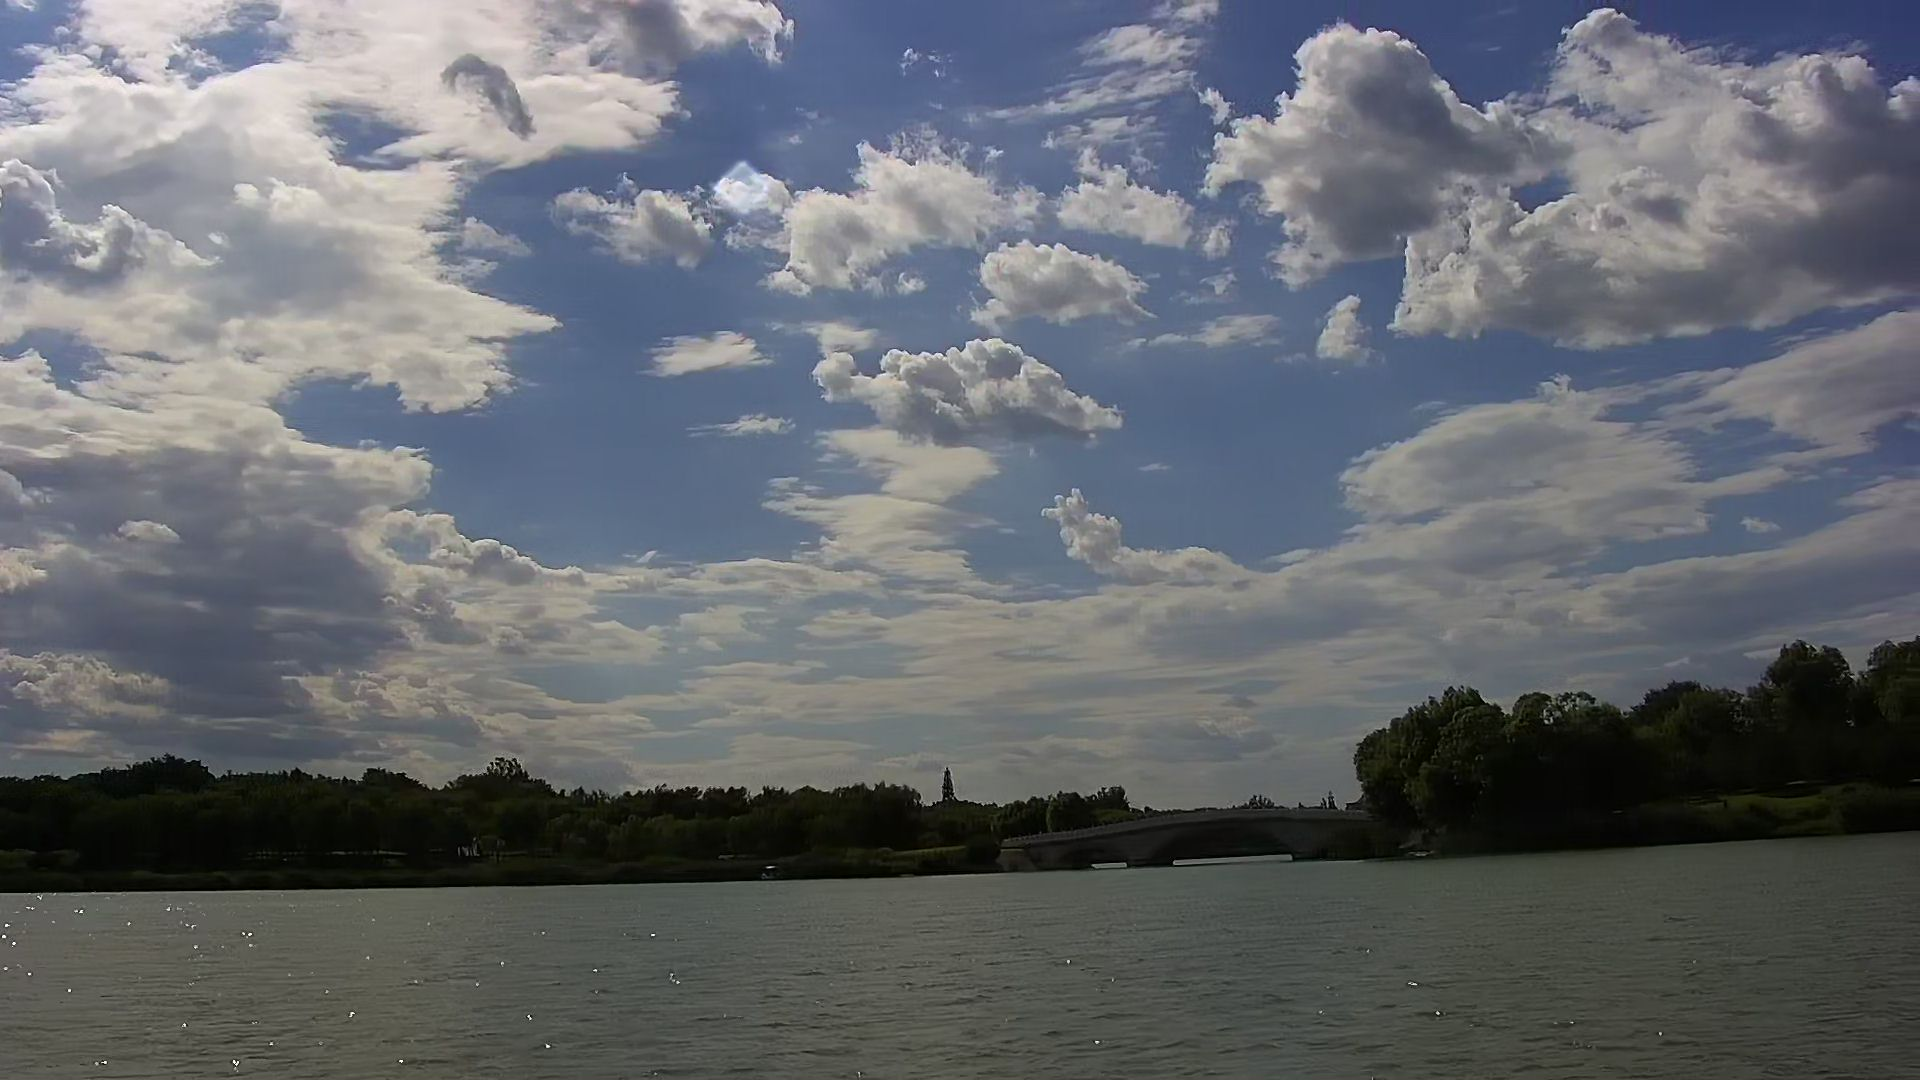bridge: (1005, 802, 1382, 868)
